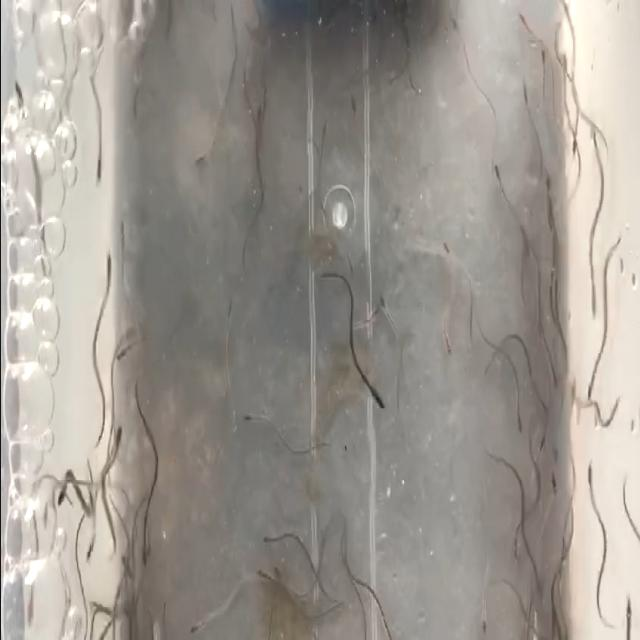active_glass_eel: (531, 46, 555, 97), (242, 395, 265, 441), (434, 222, 454, 268), (563, 70, 580, 122), (254, 556, 272, 604), (444, 3, 464, 45), (184, 604, 210, 636), (441, 322, 463, 358), (534, 414, 550, 461), (488, 156, 508, 193), (528, 574, 544, 620), (508, 508, 522, 560), (51, 478, 69, 517), (92, 146, 105, 196), (585, 284, 602, 322), (371, 378, 385, 424), (96, 246, 110, 292), (546, 349, 560, 394), (564, 116, 578, 158), (526, 470, 542, 506), (258, 528, 284, 550), (539, 169, 554, 206), (622, 452, 636, 490), (138, 534, 153, 569), (617, 597, 634, 627), (512, 410, 530, 438), (517, 77, 531, 112), (583, 374, 599, 404), (544, 440, 560, 470), (238, 39, 252, 73), (188, 148, 206, 174), (583, 460, 598, 490), (114, 332, 126, 368), (110, 424, 124, 454), (478, 608, 491, 640), (223, 297, 236, 329), (375, 289, 384, 333), (544, 474, 558, 502), (85, 536, 93, 566)
